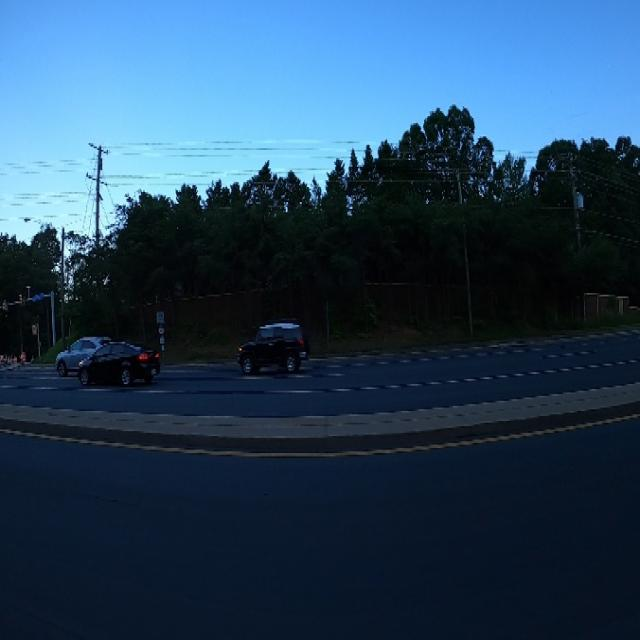cars: (79, 337, 162, 400), (237, 318, 308, 382), (54, 329, 120, 380)
